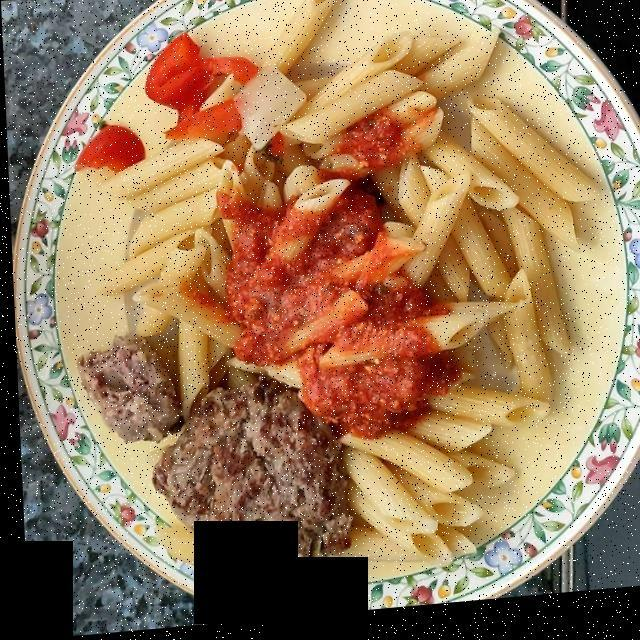beef: (87, 341, 342, 613)
bell-pepper: (66, 47, 242, 171)
pasta: (99, 39, 534, 579)
tomato-sauce: (214, 91, 450, 448)
